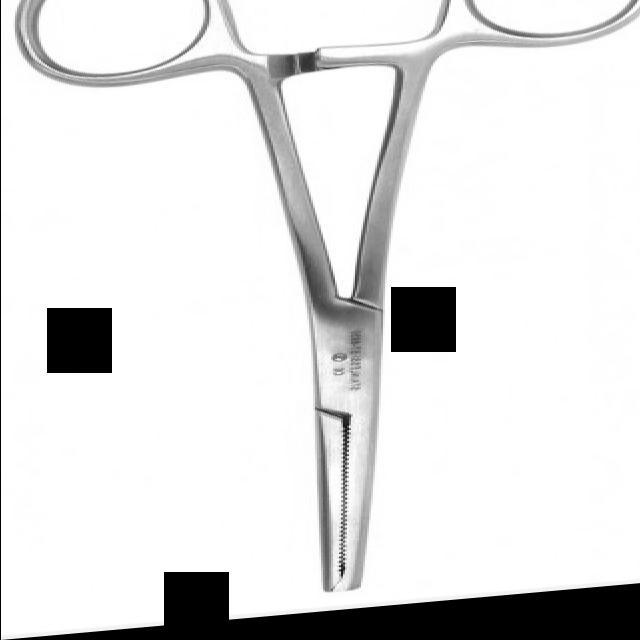Kocher Forceps: (18, 0, 640, 628)
